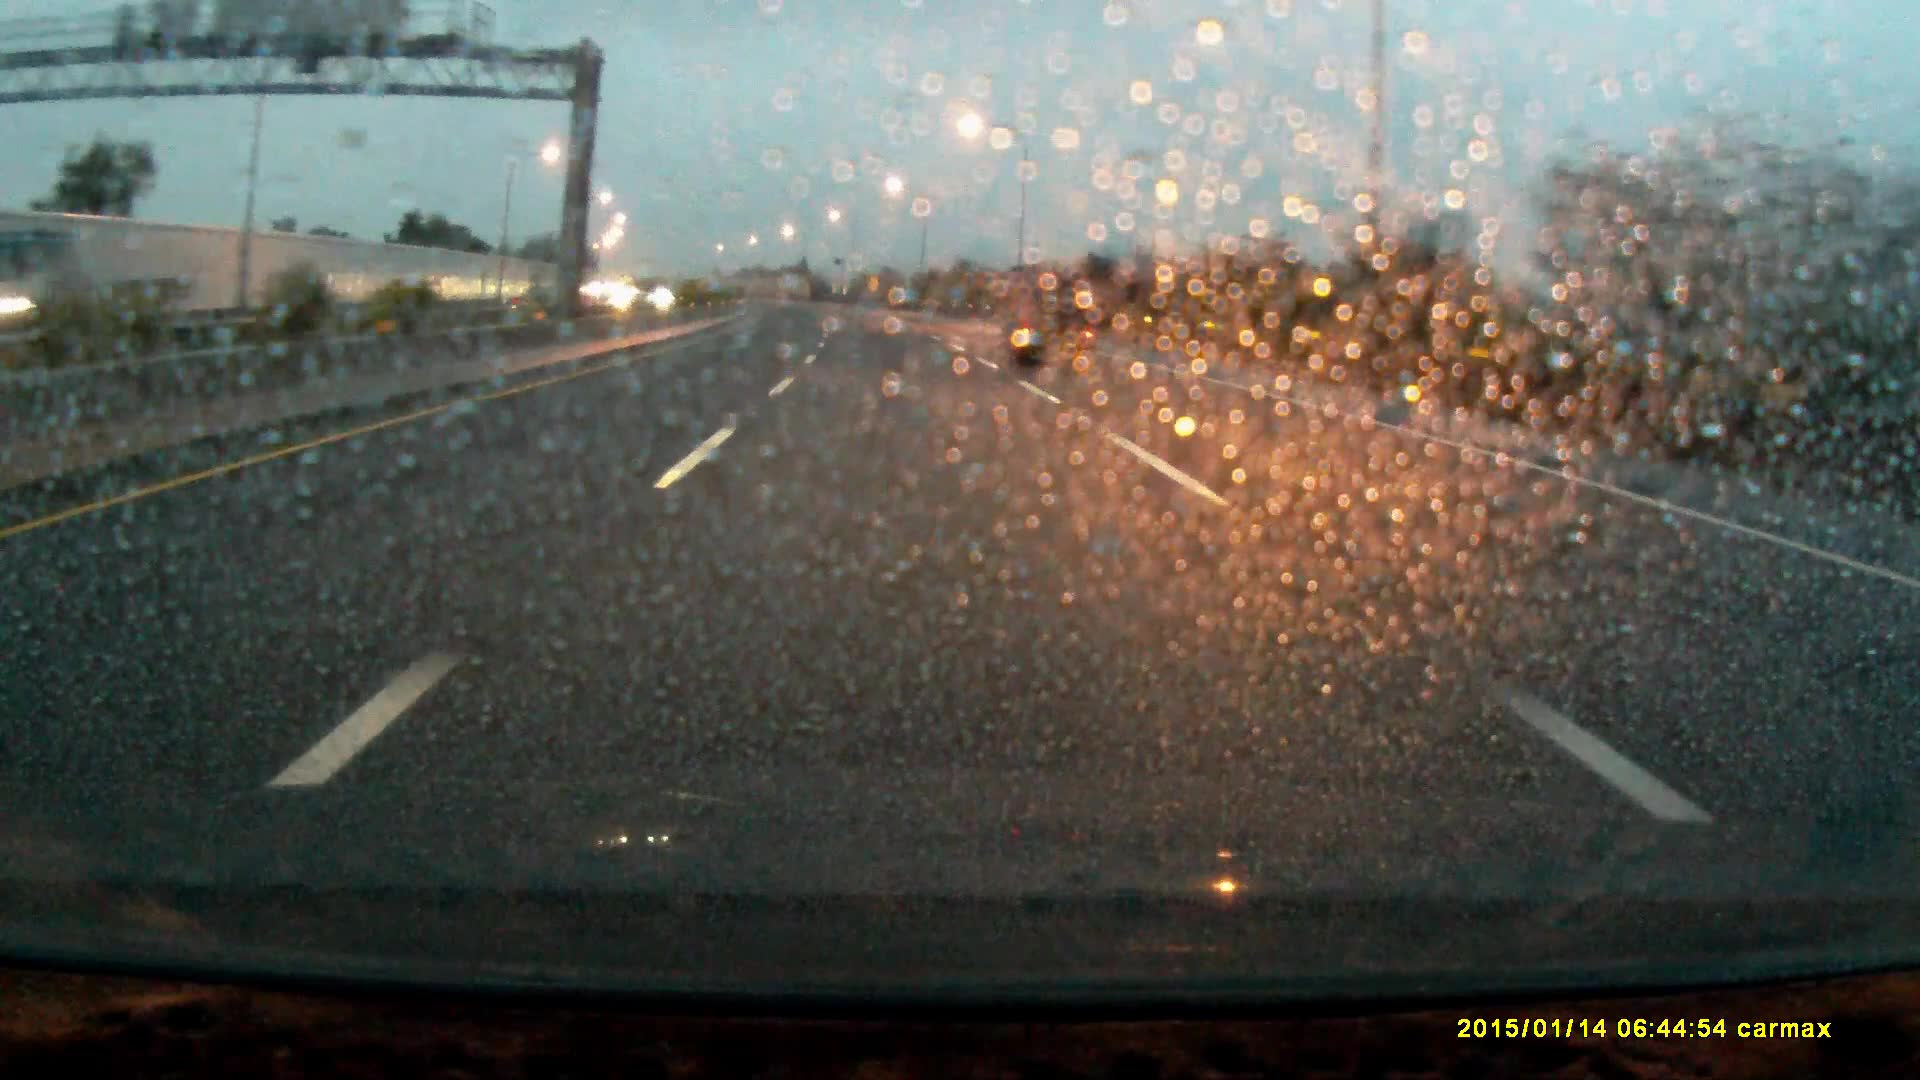vehicle: (22, 218, 200, 326), (1007, 276, 1096, 368)
